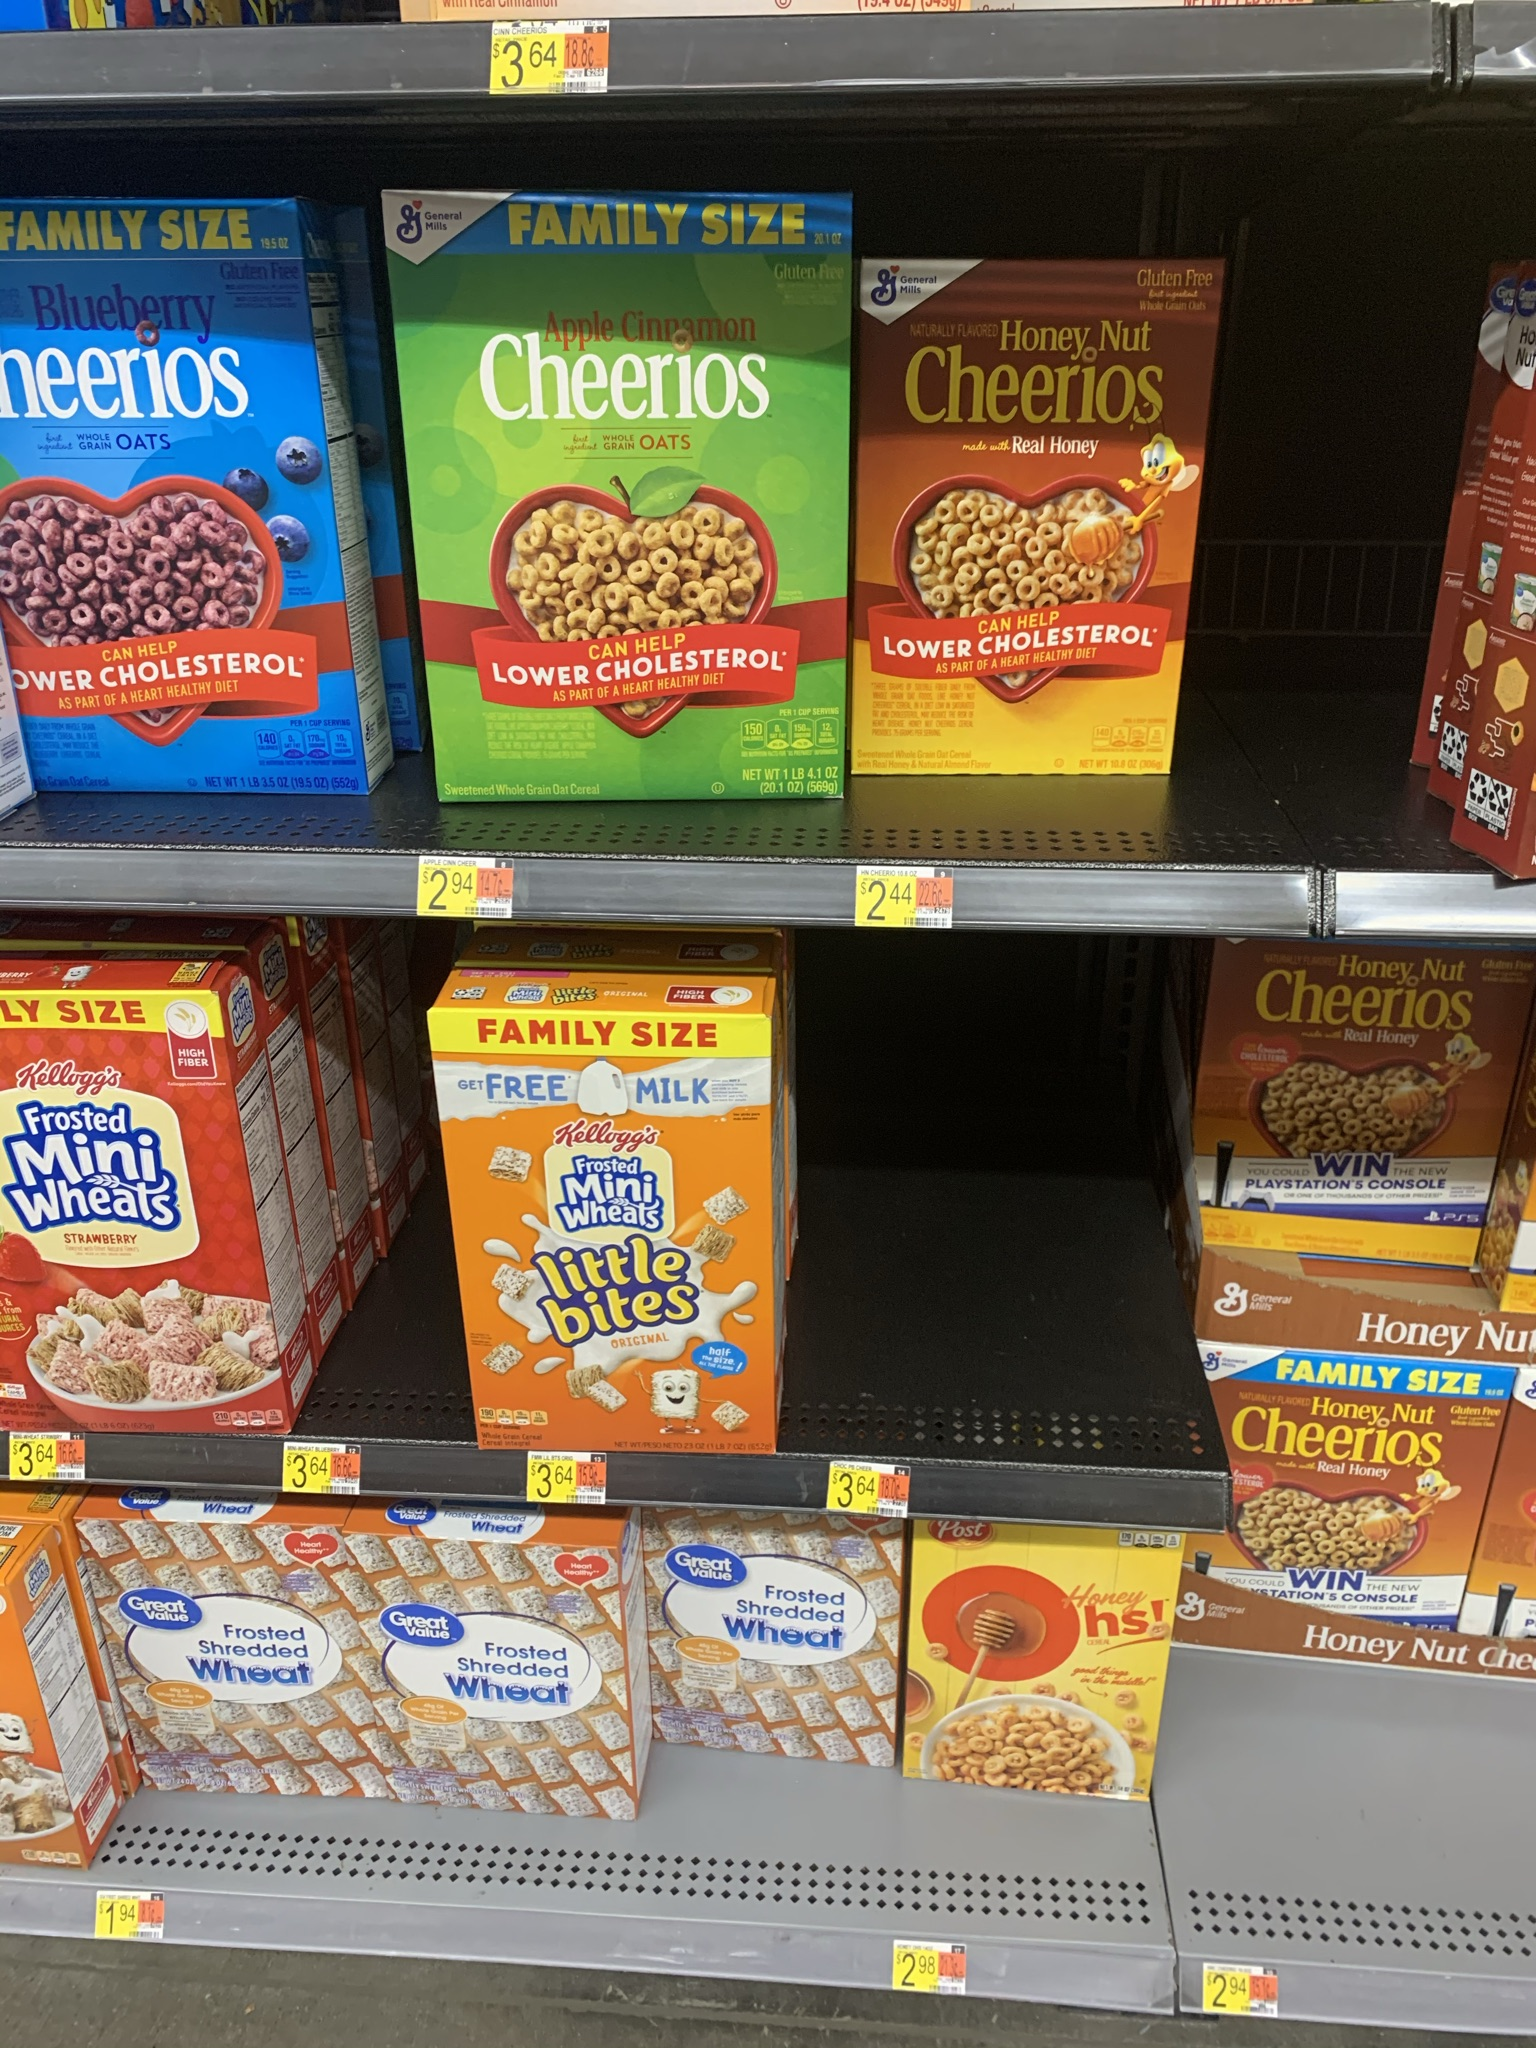box: (408, 214, 842, 797), (858, 266, 1165, 776), (40, 242, 307, 785), (481, 1018, 768, 1451), (2, 1032, 240, 1426), (1231, 955, 1501, 1242), (361, 1555, 610, 1813), (110, 1532, 334, 1793), (1250, 1367, 1462, 1630), (934, 1551, 1157, 1788), (657, 1526, 891, 1750)
